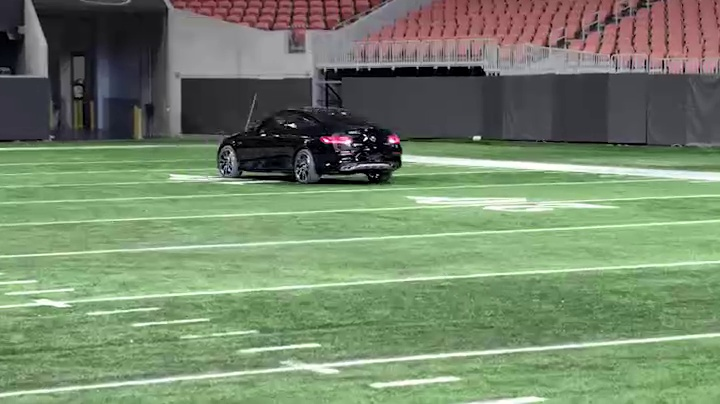amg: (214, 108, 402, 188)
